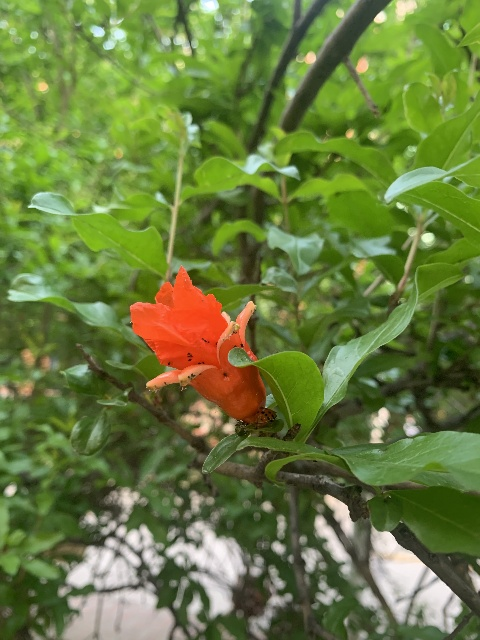flower: (129, 264, 266, 422)
